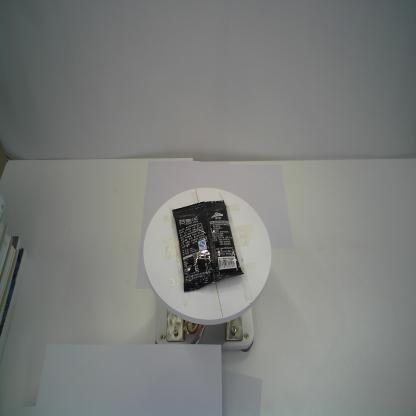Instant Drink: (172, 199, 244, 294)
